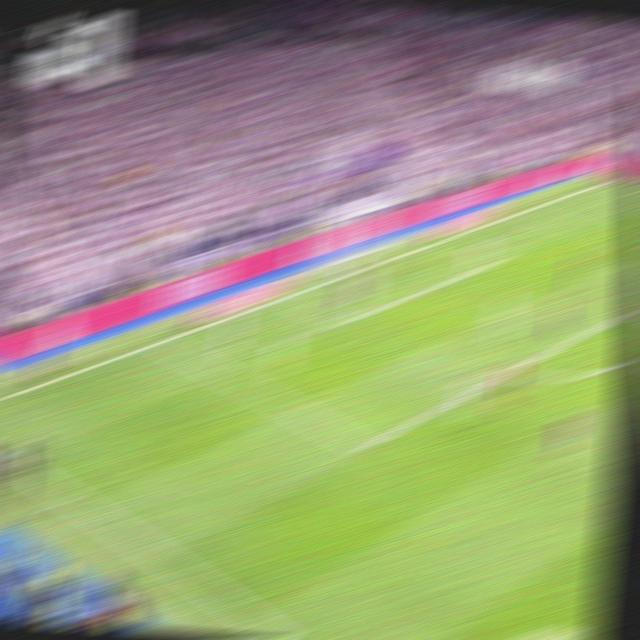bigarea_bottom_inner: (352, 435, 379, 457)
bigarea_bottom_outter: (148, 332, 173, 348)
bigarea_top_outter: (511, 205, 536, 216)
corner: (594, 176, 619, 184)
smallarea_bottom_inner: (332, 314, 356, 330)
smallarea_top_inner: (489, 255, 510, 262)
top_arc_area_intersection: (616, 303, 636, 317)
